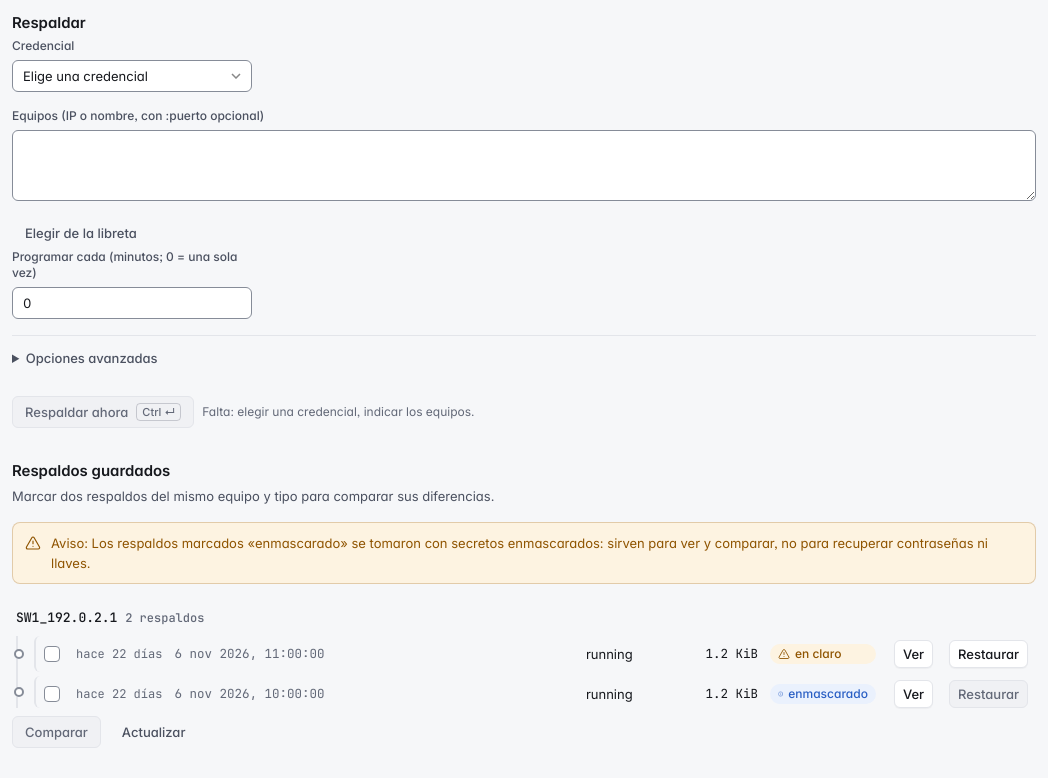
Scenario: Planear nombra lo que falta y deja de hacerlo al completarlo
Click the button "Restaurar" in the row of "6 nov 2026, 11:00:00" at (989, 654), box [949, 640, 1028, 668]
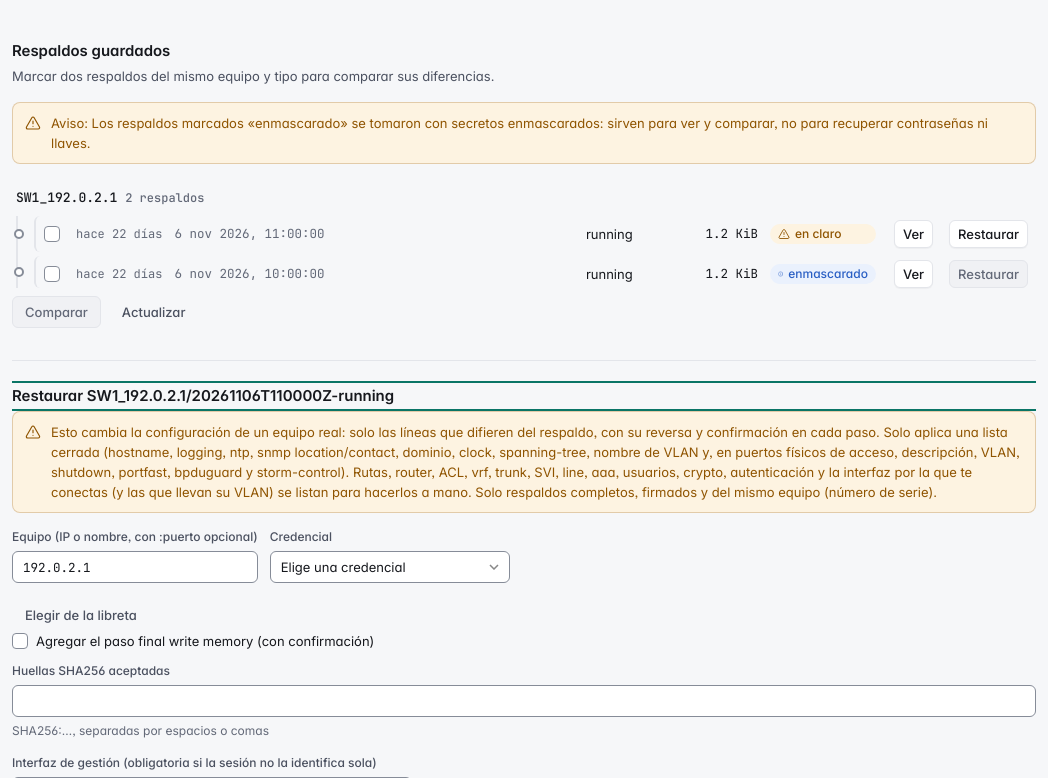
Select "lab (admin)" in the dropdown labelled "Credencial" at (390, 567), box [270, 551, 510, 583]
(page scrolled)
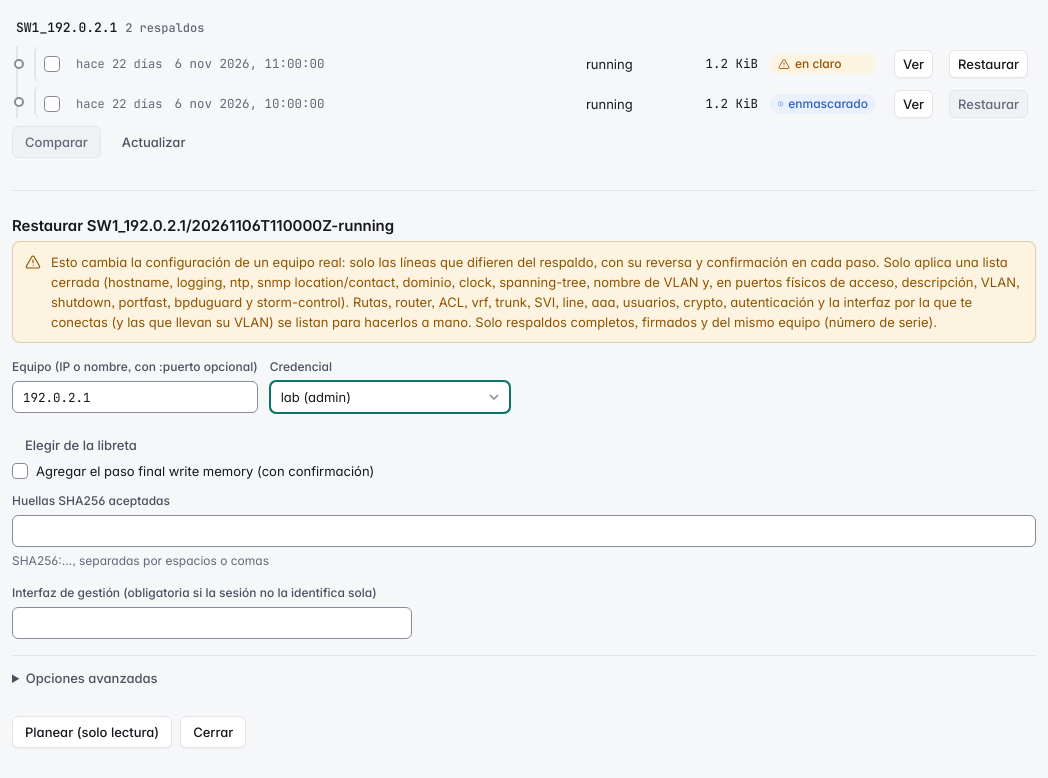
Result: the button "Planear (solo lectura)" is enabled at [12, 716, 172, 748]
